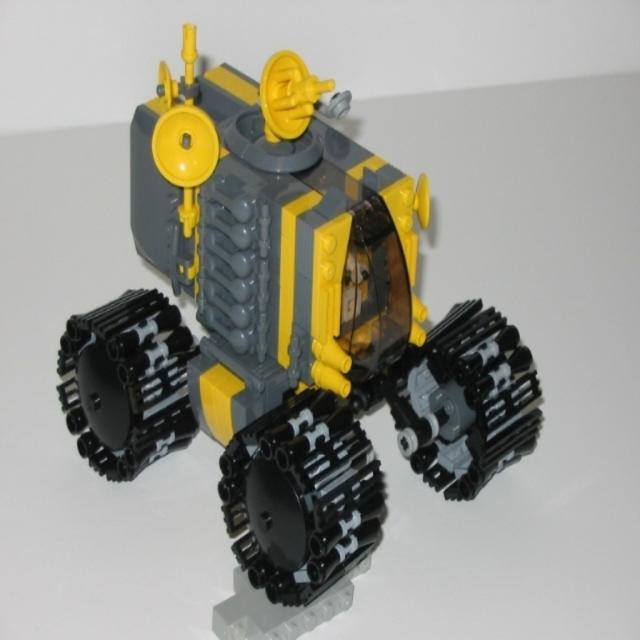Toy: (56, 22, 545, 608)
